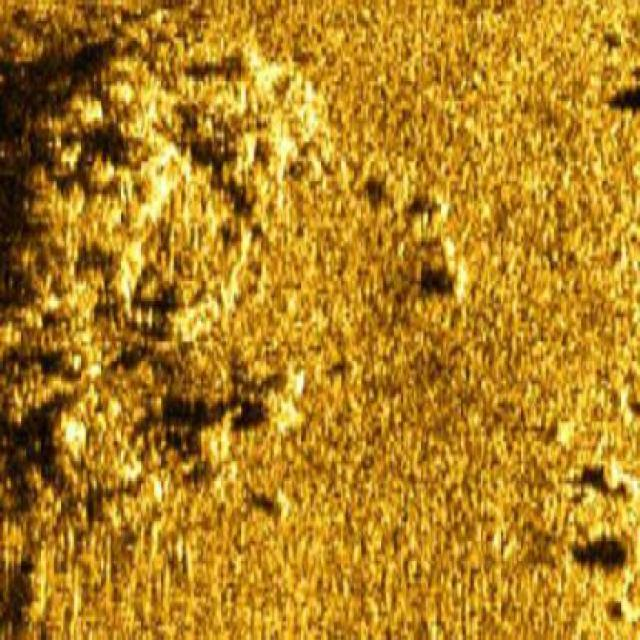bedrock group: (0, 0, 337, 528)
